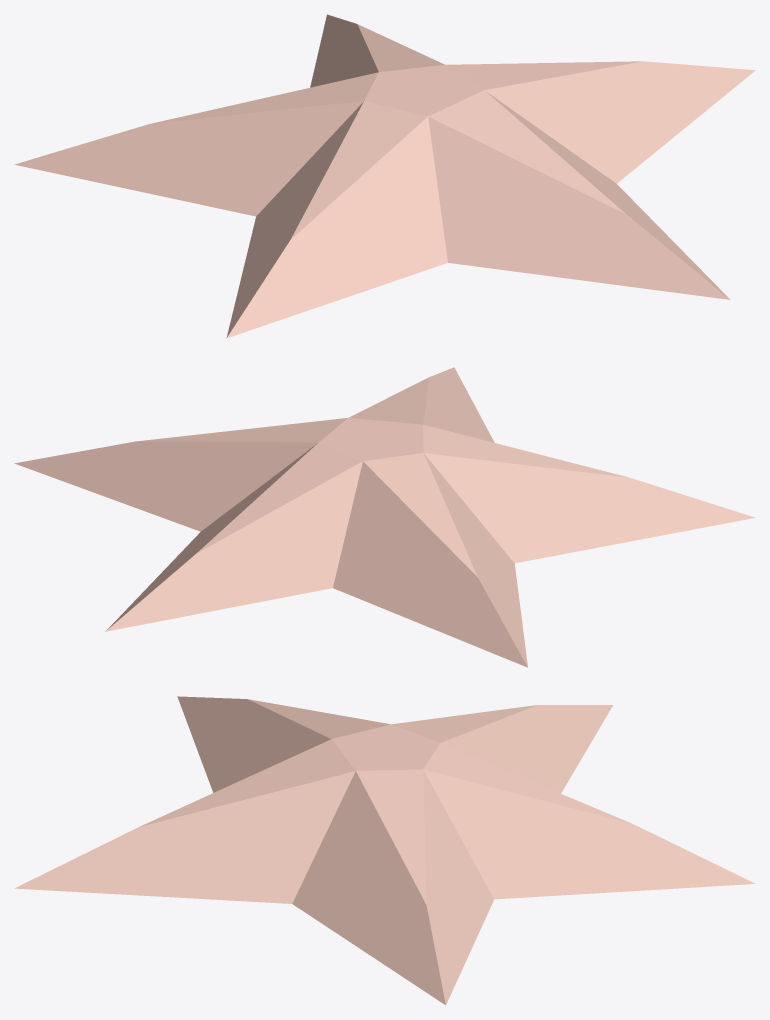
Rendered from Beach_Prop_Starfish_1.glb.
3 renders of one model, top to bottom at view 1: azimuth 30°, elevation 25°; view 2: azimuth 150°, elevation 25°; view 3: azimuth 270°, elevation 25°, orthographic. The views are drawn at different scales.
Parts seen in each view (by area): view 1: Beach_Prop_Starfish_1; view 2: Beach_Prop_Starfish_1; view 3: Beach_Prop_Starfish_1.
Boxes of the visible parts, x1,y1,x2,y2 form: Beach_Prop_Starfish_1: (14,14,755,338); Beach_Prop_Starfish_1: (14,367,755,667); Beach_Prop_Starfish_1: (14,696,755,1005).
Bounding box in the file's own units: 0.0529 × 0.007 × 0.0537.
